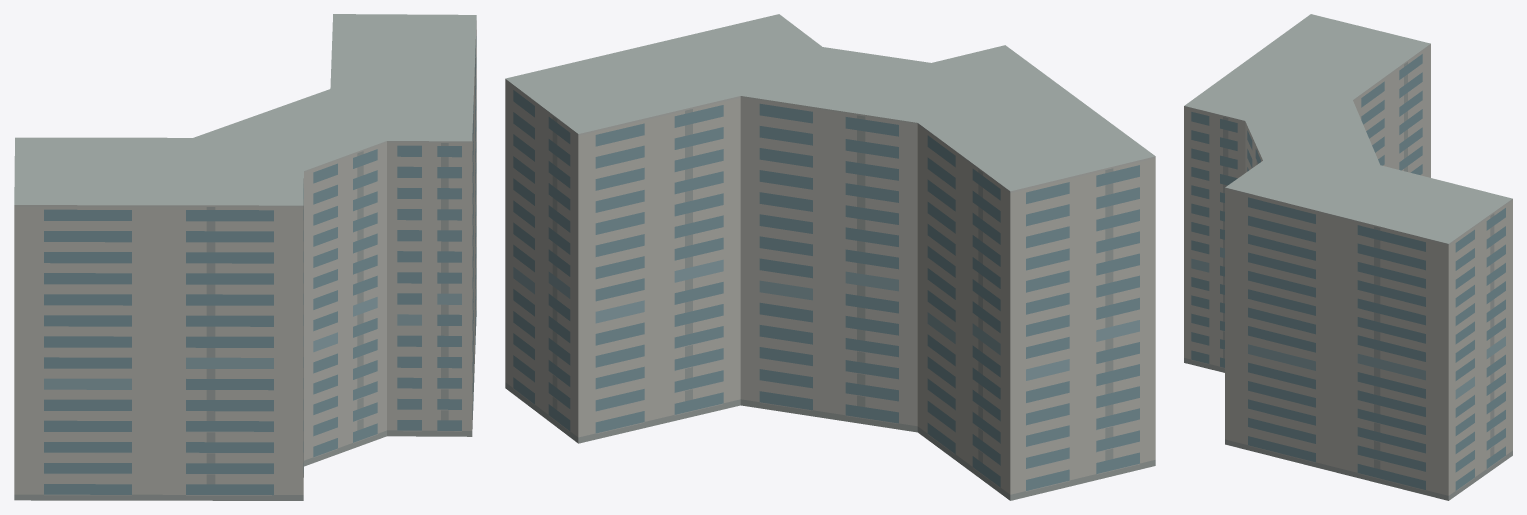
Rendered from residential-5894ae5b-ab9a-4d0b-8515-a141ff776357.glb.
3 renders of one model, left to right at view 1: azimuth 30°, elevation 25°; view 2: azimuth 150°, elevation 25°; view 3: azimuth 270°, elevation 25°, orthographic. The views are drawn at different scales.
Visible parts, largest first — view 1: residential-5894ae5b-ab9a-4d0b-8515-a141ff776357.tmp; view 2: residential-5894ae5b-ab9a-4d0b-8515-a141ff776357.tmp; view 3: residential-5894ae5b-ab9a-4d0b-8515-a141ff776357.tmp.
Boxes of the visible parts, bbox=[...] form: residential-5894ae5b-ab9a-4d0b-8515-a141ff776357.tmp: bbox=[14, 14, 476, 500]; residential-5894ae5b-ab9a-4d0b-8515-a141ff776357.tmp: bbox=[505, 14, 1155, 500]; residential-5894ae5b-ab9a-4d0b-8515-a141ff776357.tmp: bbox=[1184, 14, 1512, 500].
Size of the model in its own units: 86.35 by 45 by 52.16.
